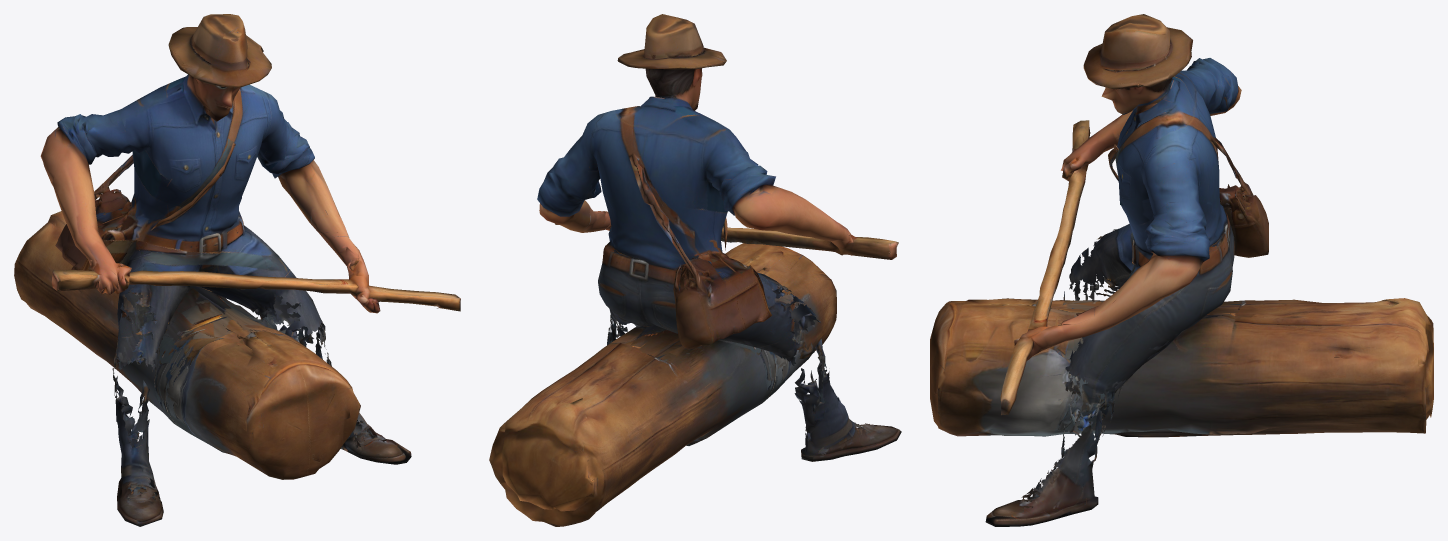
The model's file is Lumberjack_on_a_log.glb.
3 renders of one model, left to right at view 1: azimuth 30°, elevation 25°; view 2: azimuth 150°, elevation 25°; view 3: azimuth 270°, elevation 25°, orthographic. The views are drawn at different scales.
Size of the model in its own units: 1.79 by 1.94 by 2.01.
1 material, 1 textured.
